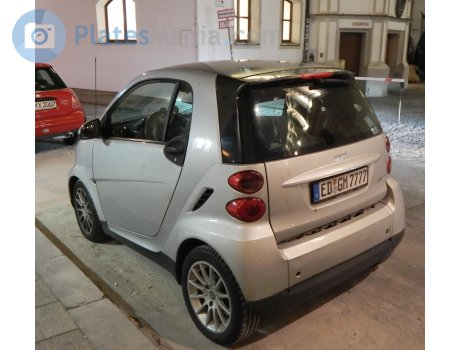License Plates: (314, 181, 375, 192)
